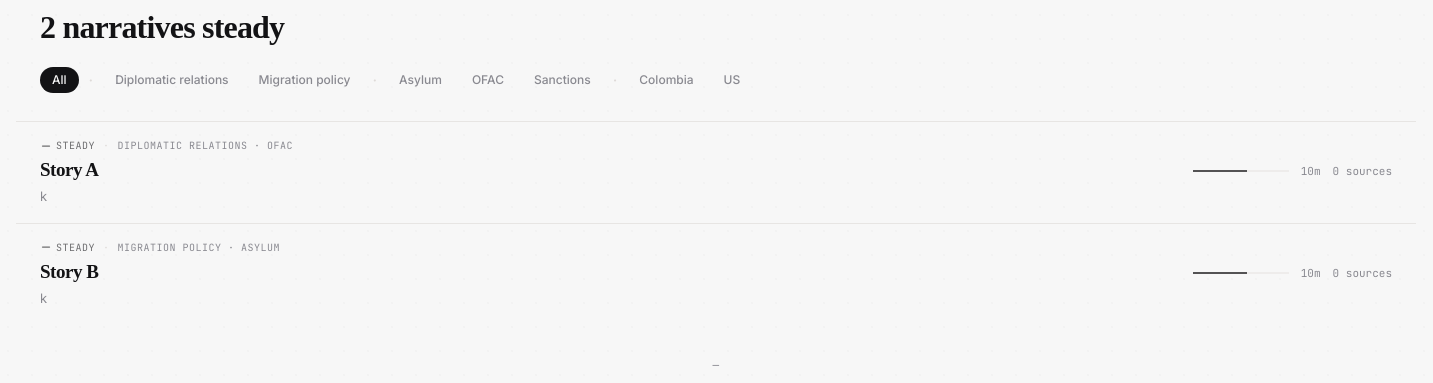
Scenario: Phase 6: dynamic header pills › All pill is active (aria-pressed=true) when no filters are selected
Check: the heading "Story A" is shown, box [40,159,98,180]
Step 1. Click the button with test id "pill-topic-Migration policy" → {"x": 305, "y": 80}, box [247,67,362,93]
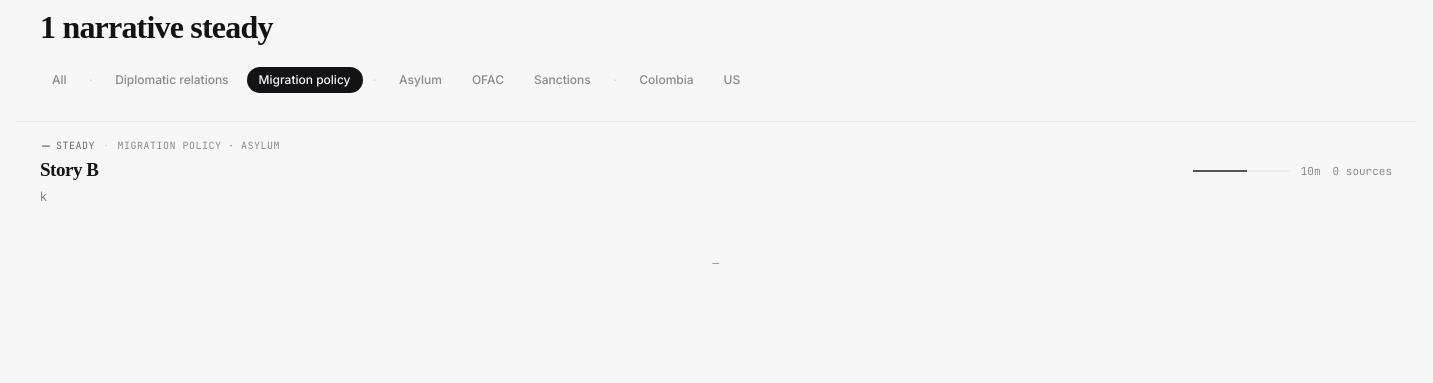
Check: the button with test id "pill-all" is not pressed, box [40,67,79,93]
Check: the button with test id "pill-topic-Migration policy" is pressed, box [247,67,362,93]
